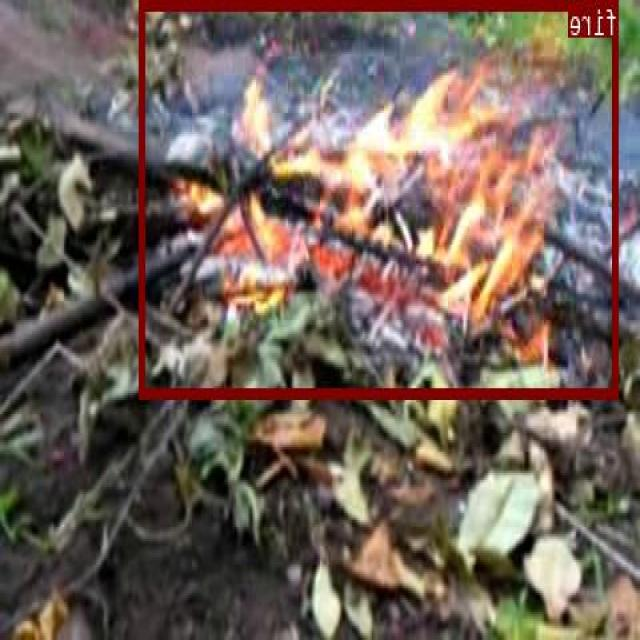fire: (140, 0, 619, 398)
